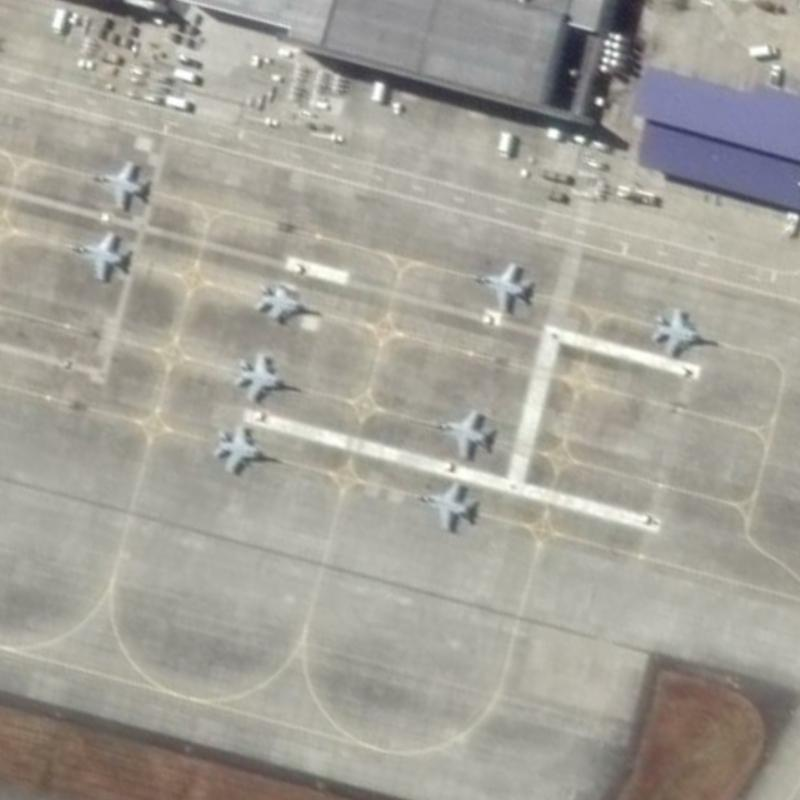A16: (458, 254, 539, 321), (51, 225, 136, 288), (398, 473, 479, 538), (415, 400, 497, 464), (248, 272, 327, 333), (76, 154, 155, 215), (231, 344, 304, 410), (642, 301, 720, 362), (206, 418, 284, 477)
